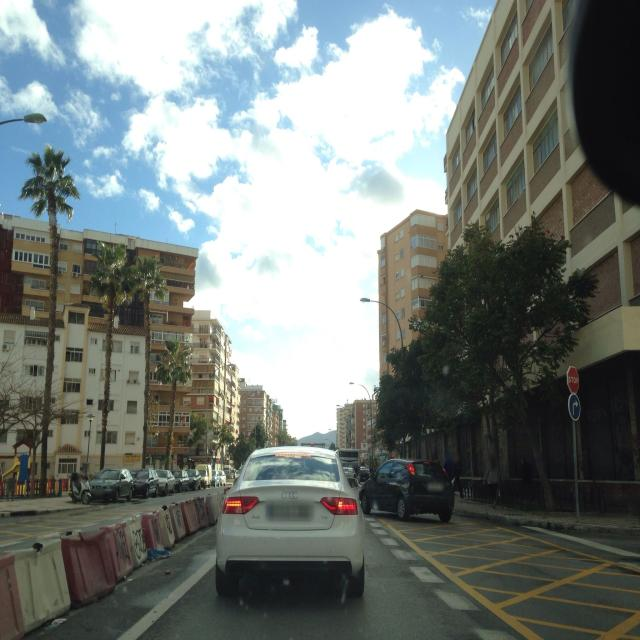car: (215, 445, 365, 601), (358, 458, 454, 522), (82, 466, 134, 505), (130, 468, 160, 498), (155, 469, 176, 495), (172, 468, 190, 492), (196, 466, 213, 488), (186, 468, 202, 490), (214, 469, 226, 486)
